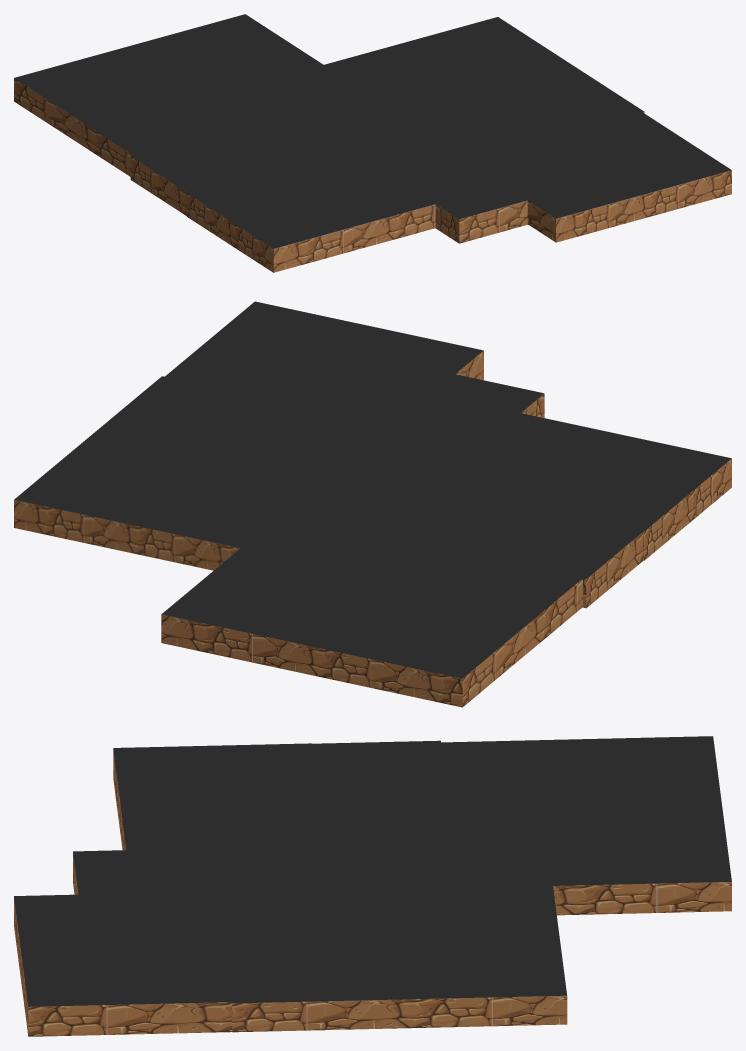
The model's file is starting_base.glb.
3 views of the same model, one above another, from view 1: azimuth 30°, elevation 25°; view 2: azimuth 150°, elevation 25°; view 3: azimuth 270°, elevation 25° (orthographic). The views are drawn at different scales.
Parts seen in each view (by area): view 1: polySurface1022; view 2: polySurface1022; view 3: polySurface1022.
Boxes of the visible parts, x1,y1,x2,y2 form: polySurface1022: (14, 14, 731, 272); polySurface1022: (14, 301, 731, 707); polySurface1022: (14, 736, 731, 1036).
Size of the model in its own units: 10.47 by 0.549 by 11.74.
Materials: 3 (2 with a texture image).
